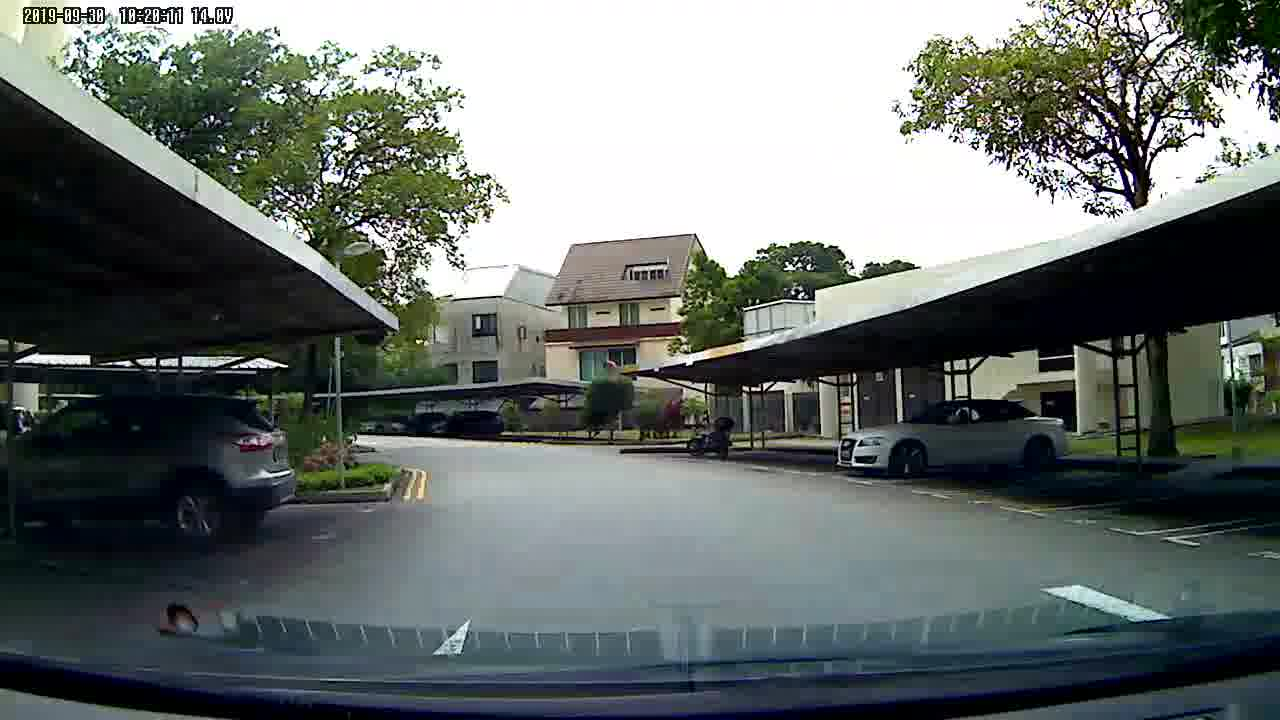car: (1, 392, 305, 556), (837, 399, 1072, 473)
